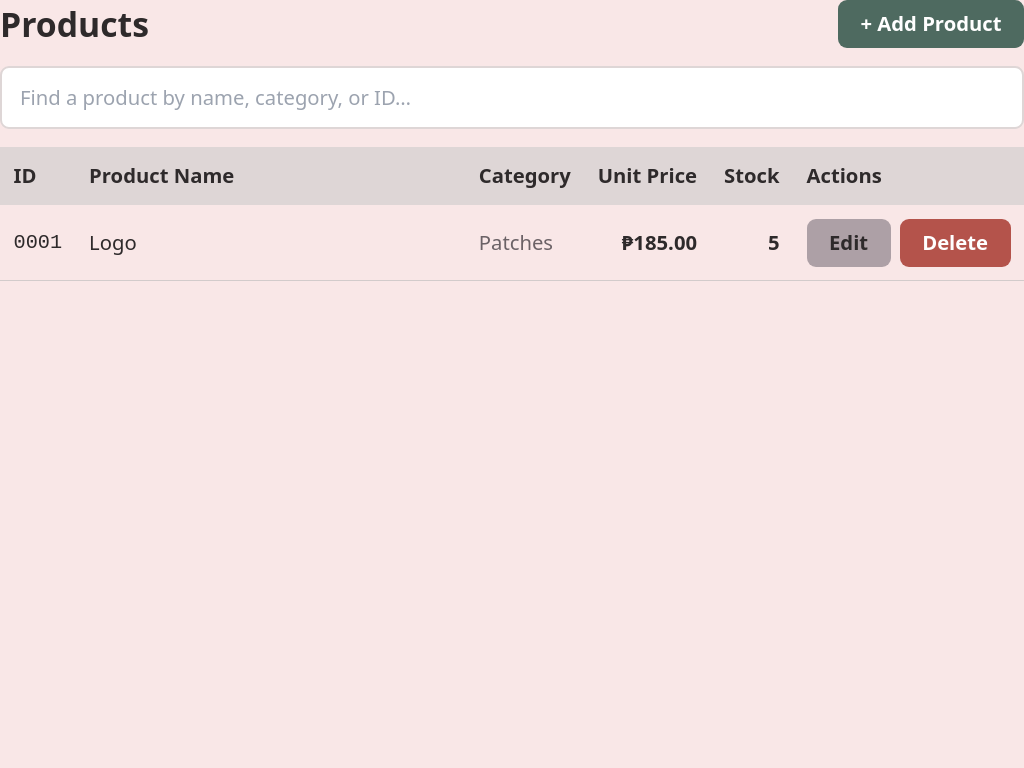
ProductsPage › shows a Category column and a Category field in the Add form
Expected: the text "Logo" is shown, [76,205,465,280]
Expected: the column heading "Category" is shown, [465,146,584,205]
Click the button "+ Add Product": (931, 24) [838,0,1023,48]
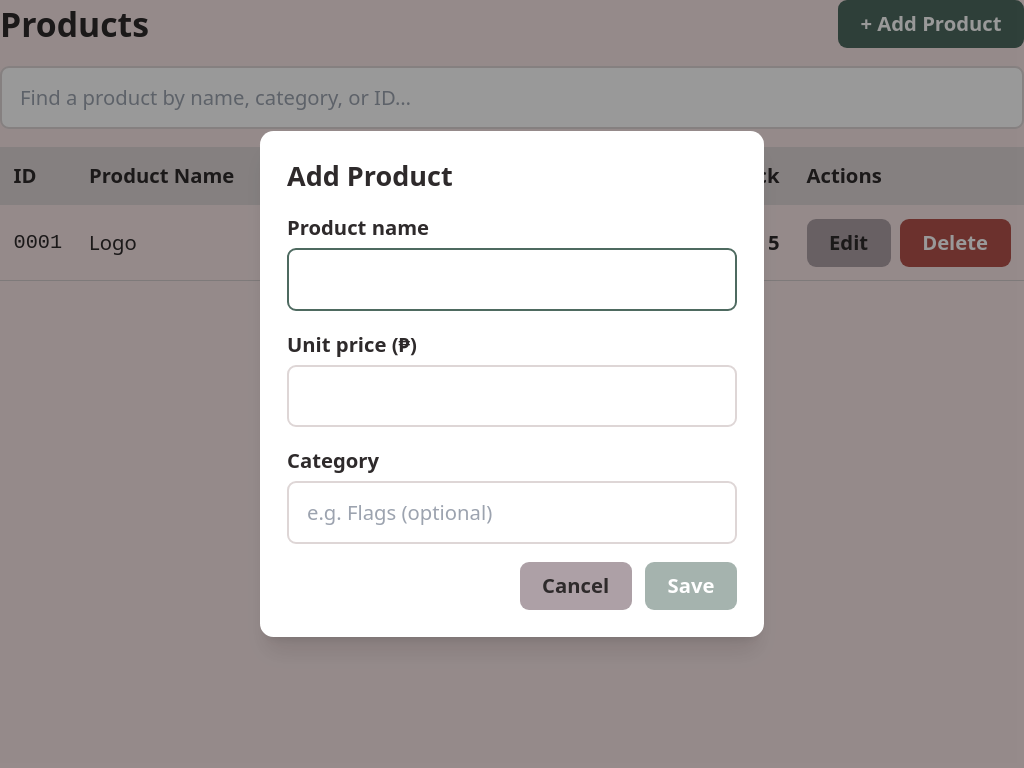
Expected: the field labelled "Category" is shown, [287,481,737,544]
